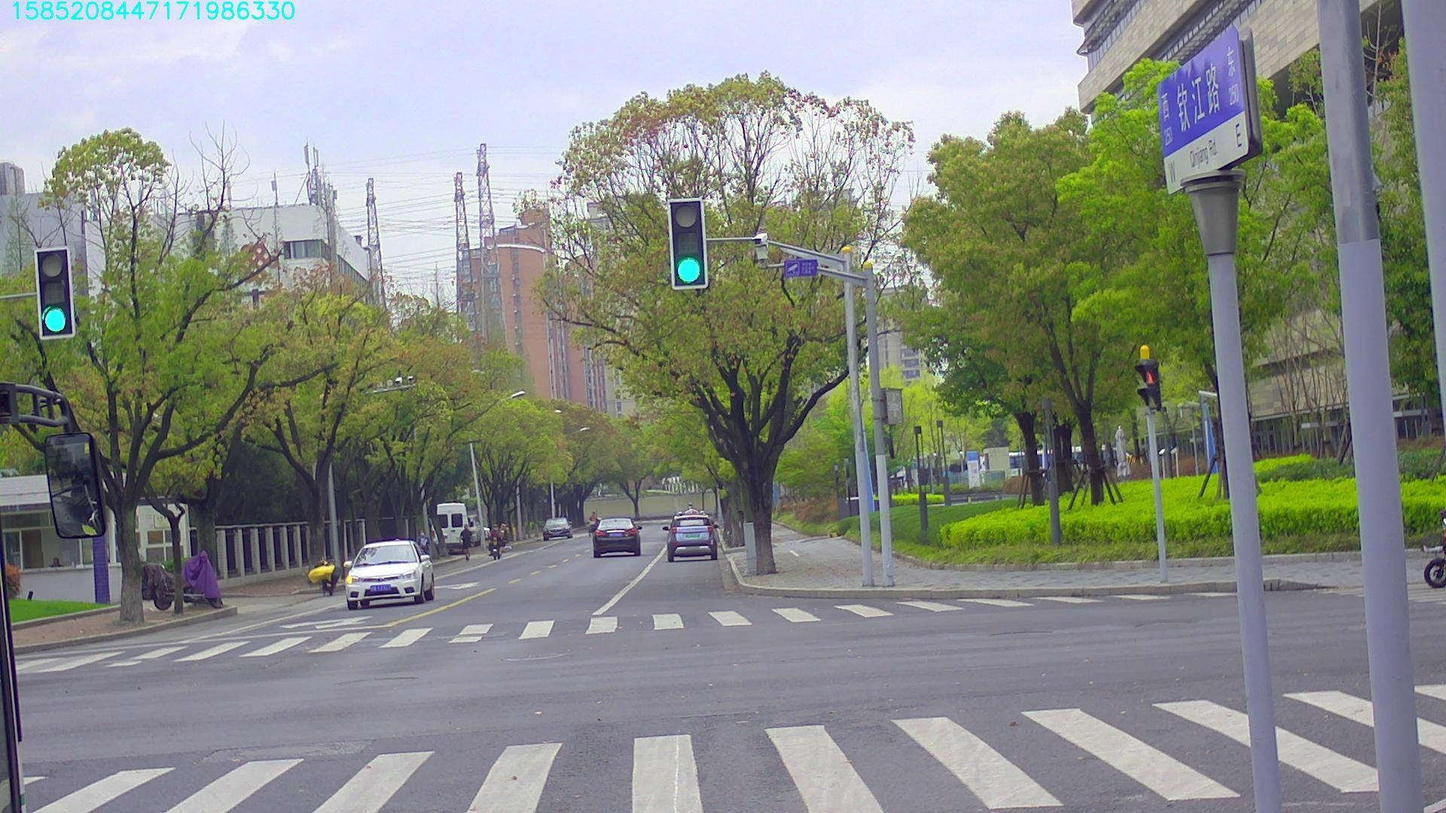green: (37, 250, 73, 336), (670, 200, 705, 285)
